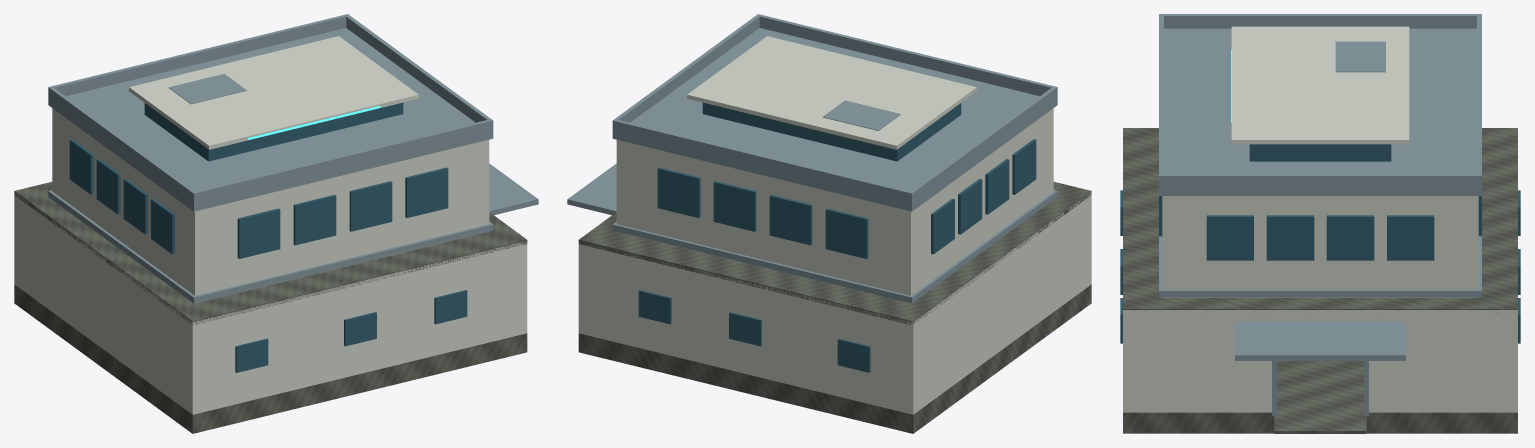
The model's file is Halo_Clinic.glb.
3 renders of one model, left to right at view 1: azimuth 30°, elevation 25°; view 2: azimuth 150°, elevation 25°; view 3: azimuth 270°, elevation 25°, orthographic. The views are drawn at different scales.
Visible parts, largest first — view 1: Halo_Clinic_GroundShell, Halo_Clinic_Roof, Halo_Clinic_Upper1_Shell_F1, Halo_Clinic_CivicLantern, Halo_Clinic_TerraceDeck_1, Halo_Clinic_Foundation, Halo_Clinic_Upper1_SideGlazing_F1, Halo_Clinic_Upper1_EndGlazing_F1, Halo_Clinic_Upper1_SlabBand_F1, Halo_Clinic_GroundWindows, Halo_Clinic_PortalFixture, Halo_Clinic_RoofPlant; view 2: Halo_Clinic_GroundShell, Halo_Clinic_Roof, Halo_Clinic_Upper1_Shell_F1, Halo_Clinic_CivicLantern, Halo_Clinic_TerraceDeck_1, Halo_Clinic_Foundation, Halo_Clinic_Upper1_SideGlazing_F1, Halo_Clinic_Upper1_EndGlazing_F1, Halo_Clinic_Upper1_SlabBand_F1, Halo_Clinic_GroundWindows, Halo_Clinic_PortalFixture, Halo_Clinic_RoofPlant; view 3: Halo_Clinic_Roof, Halo_Clinic_GroundShell, Halo_Clinic_CivicLantern, Halo_Clinic_Upper1_Shell_F1, Halo_Clinic_TerraceDeck_1, Halo_Clinic_Foundation, Halo_Clinic_Upper1_EndGlazing_F1, Halo_Clinic_PortalFixture, Halo_Clinic_Upper1_SlabBand_F1, Halo_Clinic_ThresholdRamp, Halo_Clinic_RoofPlant, Halo_Clinic_GroundWindows (+1 smaller).
Part boxes in pixels (x1,y1,x2,y2): Halo_Clinic_GroundShell: (14, 192, 527, 414); Halo_Clinic_Roof: (48, 14, 493, 211); Halo_Clinic_Upper1_Shell_F1: (52, 108, 489, 302); Halo_Clinic_CivicLantern: (129, 36, 418, 161); Halo_Clinic_TerraceDeck_1: (14, 182, 527, 325); Halo_Clinic_Foundation: (14, 284, 527, 433); Halo_Clinic_Upper1_SideGlazing_F1: (237, 167, 448, 258); Halo_Clinic_Upper1_EndGlazing_F1: (69, 139, 174, 254); Halo_Clinic_Upper1_SlabBand_F1: (48, 190, 493, 303); Halo_Clinic_GroundWindows: (235, 290, 467, 372); Halo_Clinic_PortalFixture: (489, 163, 538, 215); Halo_Clinic_RoofPlant: (168, 74, 246, 104); Halo_Clinic_GroundShell: (578, 192, 1091, 414); Halo_Clinic_Roof: (612, 14, 1057, 211); Halo_Clinic_Upper1_Shell_F1: (616, 108, 1053, 302); Halo_Clinic_CivicLantern: (687, 36, 976, 161); Halo_Clinic_TerraceDeck_1: (578, 182, 1091, 325); Halo_Clinic_Foundation: (578, 284, 1091, 433); Halo_Clinic_Upper1_SideGlazing_F1: (657, 167, 868, 258); Halo_Clinic_Upper1_EndGlazing_F1: (931, 139, 1036, 254); Halo_Clinic_Upper1_SlabBand_F1: (612, 190, 1057, 303); Halo_Clinic_GroundWindows: (638, 290, 870, 372); Halo_Clinic_PortalFixture: (567, 163, 616, 215); Halo_Clinic_RoofPlant: (822, 100, 900, 130); Halo_Clinic_Roof: (1159, 14, 1481, 195); Halo_Clinic_GroundShell: (1123, 310, 1517, 412); Halo_Clinic_CivicLantern: (1231, 26, 1409, 161); Halo_Clinic_Upper1_Shell_F1: (1162, 196, 1478, 297); Halo_Clinic_TerraceDeck_1: (1123, 128, 1517, 313); Halo_Clinic_Foundation: (1123, 361, 1517, 433); Halo_Clinic_Upper1_EndGlazing_F1: (1206, 215, 1434, 260); Halo_Clinic_PortalFixture: (1235, 321, 1405, 360); Halo_Clinic_Upper1_SlabBand_F1: (1159, 236, 1481, 297); Halo_Clinic_ThresholdRamp: (1274, 412, 1366, 433); Halo_Clinic_RoofPlant: (1335, 41, 1385, 72); Halo_Clinic_GroundWindows: (1120, 190, 1520, 343).
Bounding box in the file's own units: 15.4 × 8.79 × 12.16.
6 materials, 2 textured.
